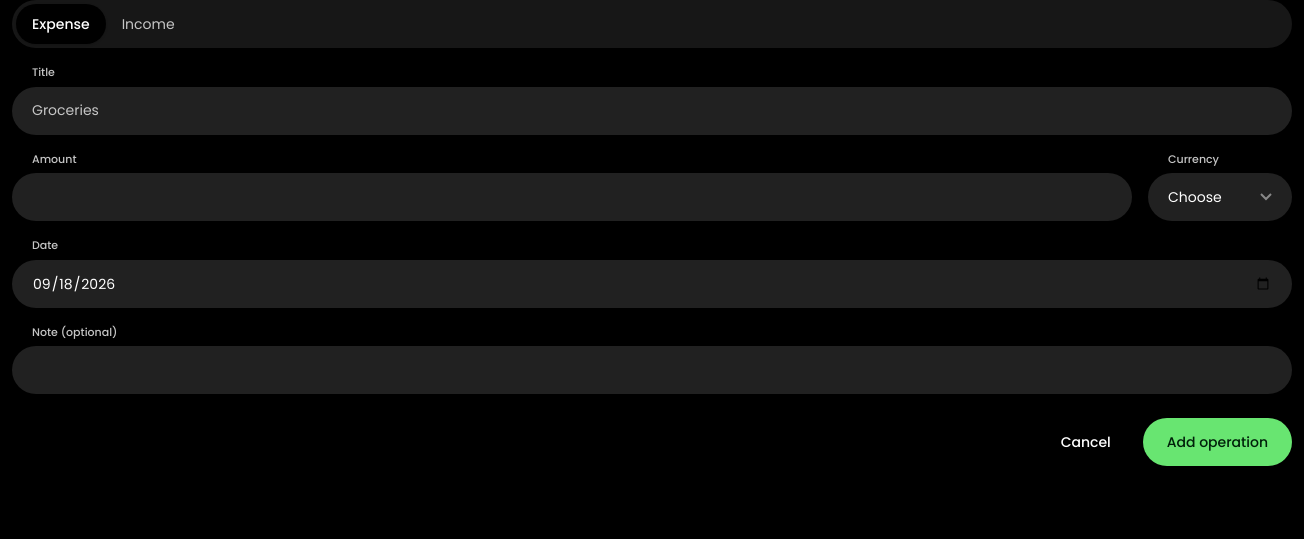
Test: OperationForm › previews the USD figure at the chosen currency’s rate
Select "SYP" in the dropdown labelled "Currency" at point(1220, 197), box [1148,173,1292,221]
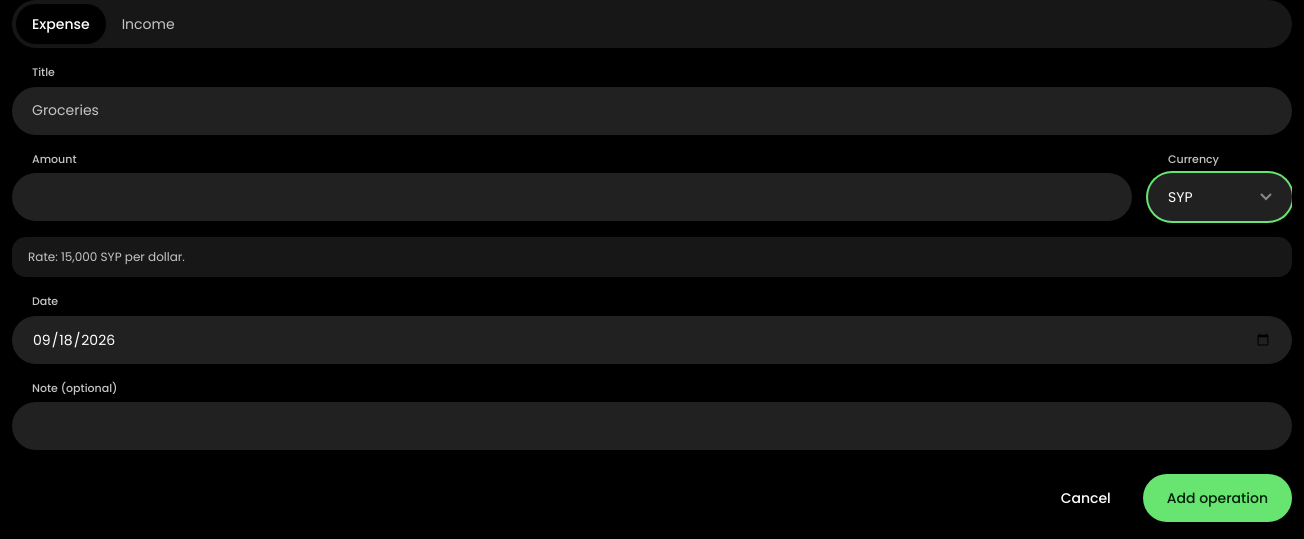
Type "30000" into the number field labelled "Amount" at point(572, 197), box [12,173,1132,221]
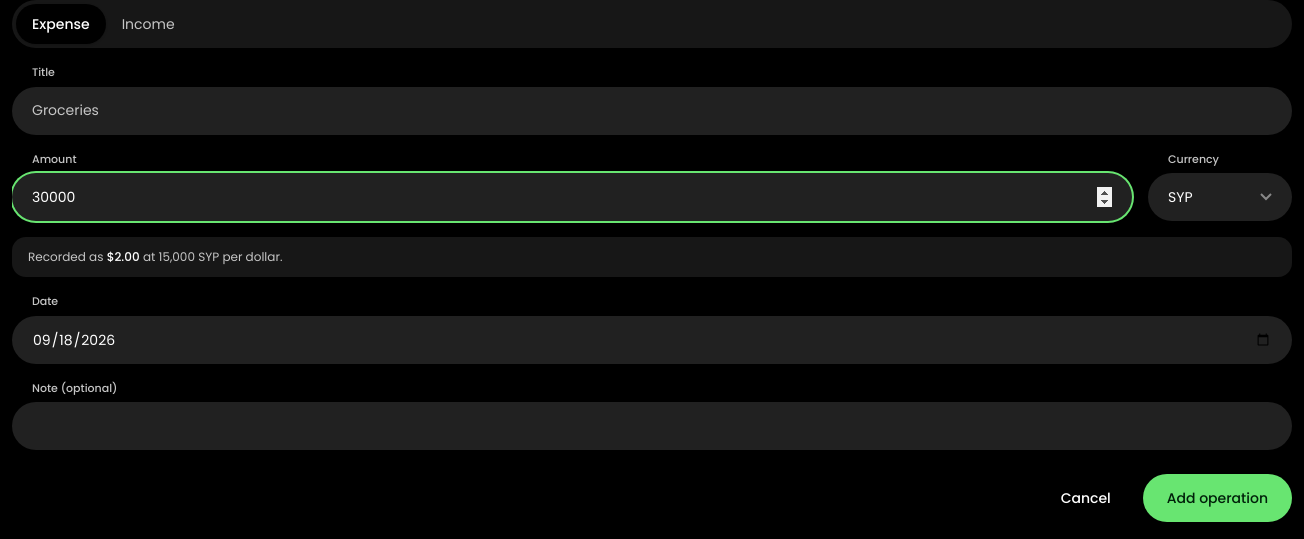
Expected: the text "Recorded as $2.00 at 15,000 SYP per dollar." is shown, [28,248,282,265]
